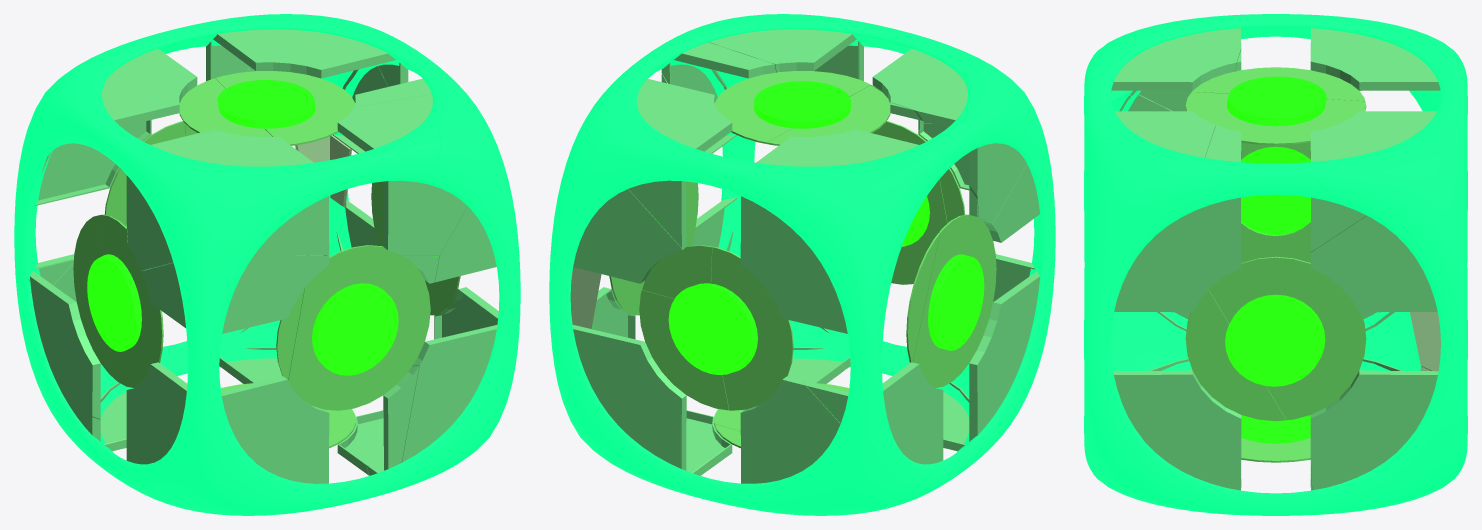
File: BrokenBoxThree.fbx
3 views of the same model, side by side, from view 1: azimuth 30°, elevation 25°; view 2: azimuth 150°, elevation 25°; view 3: azimuth 270°, elevation 25° (orthographic).
Parts seen in each view (by area): view 1: Cube.001_cell.004, Cube.001_cell.002, 円.003, Cube.001_cell.001, 円.000_cell.015, Cube.001_cell, 円.001_cell.011, 円.000_cell.007, 円.000_cell.004, 円.000_cell.002, 円.000_cell.019, 円.000_cell.009 (+20 smaller); view 2: Cube.001_cell.004, Cube.001_cell.002, 円.003, 円.000_cell.005, 円.000_cell.002, 円.000_cell.015, 円.000_cell.004, 円.000_cell.006, 円.000_cell.009, 円.001_cell.008, 円.000_cell, 円.001_cell (+21 smaller); view 3: Cube.001_cell.004, Cube.001_cell.002, Cube.001_cell.001, 円.003, 円.001_cell.014, 円.000_cell.007, 円.000_cell.005, 円.000_cell.001, 円.000_cell, 円.000_cell.004, 円.000_cell.009, 円.000_cell.002 (+10 smaller).
Boxes of the visible parts, x1=… form: Cube.001_cell.004: x1=14, y1=14, x2=440, y2=278; Cube.001_cell.002: x1=20, y1=189, x2=503, y2=515; 円.003: x1=87, y1=80, x2=438, y2=375; Cube.001_cell.001: x1=406, y1=48, x2=520, y2=412; 円.000_cell.015: x1=126, y1=362, x2=329, y2=483; Cube.001_cell: x1=158, y1=220, x2=247, y2=485; 円.001_cell.011: x1=288, y1=245, x2=430, y2=410; 円.000_cell.007: x1=337, y1=287, x2=498, y2=475; 円.000_cell.004: x1=126, y1=130, x2=329, y2=270; 円.000_cell.002: x1=35, y1=48, x2=197, y2=205; 円.000_cell.019: x1=337, y1=94, x2=467, y2=255; 円.000_cell.009: x1=206, y1=29, x2=408, y2=86; Cube.001_cell.004: x1=549, y1=14, x2=1033, y2=416; Cube.001_cell.002: x1=549, y1=301, x2=1032, y2=515; 円.003: x1=642, y1=81, x2=984, y2=422; 円.000_cell.005: x1=572, y1=287, x2=732, y2=475; 円.000_cell.002: x1=740, y1=129, x2=918, y2=333; 円.000_cell.015: x1=936, y1=254, x2=1040, y2=451; 円.000_cell.004: x1=872, y1=48, x2=1026, y2=224; 円.000_cell.006: x1=740, y1=376, x2=840, y2=483; 円.000_cell.009: x1=628, y1=78, x2=732, y2=248; 円.001_cell.008: x1=711, y1=246, x2=793, y2=410; 円.000_cell: x1=573, y1=189, x2=683, y2=283; 円.001_cell: x1=912, y1=214, x2=996, y2=387; Cube.001_cell.004: x1=1084, y1=14, x2=1467, y2=353; Cube.001_cell.002: x1=1084, y1=240, x2=1467, y2=515; Cube.001_cell.001: x1=1084, y1=138, x2=1331, y2=466; 円.003: x1=1225, y1=76, x2=1326, y2=443; 円.001_cell.014: x1=1209, y1=256, x2=1366, y2=420; 円.000_cell.007: x1=1113, y1=370, x2=1241, y2=490; 円.000_cell.005: x1=1310, y1=370, x2=1438, y2=490; 円.000_cell.001: x1=1114, y1=198, x2=1241, y2=312; 円.000_cell: x1=1310, y1=216, x2=1437, y2=312; 円.000_cell.004: x1=1111, y1=28, x2=1241, y2=111; 円.000_cell.009: x1=1310, y1=111, x2=1436, y2=252; 円.000_cell.002: x1=1310, y1=28, x2=1440, y2=90.
Bounding box in the file's own units: 203 × 203 × 203.
